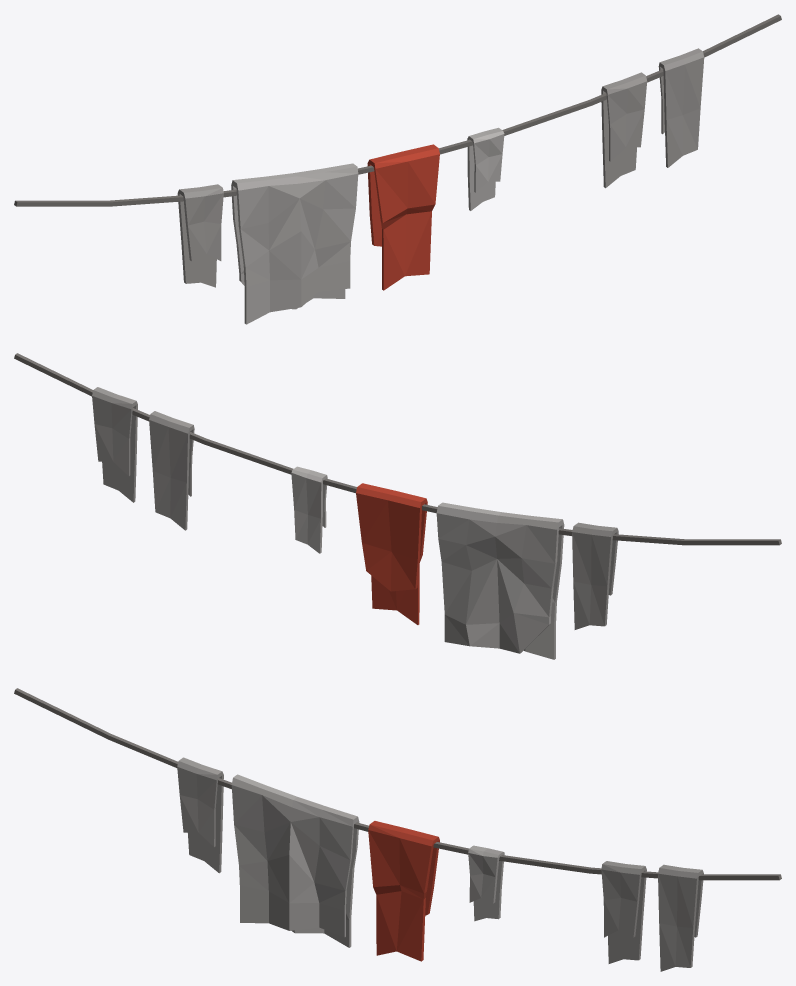
Rendered from SM_Prop_Washingline_01.fbx.
The picture shows the model from 3 angles, top to bottom: view 1: azimuth 30°, elevation 25°; view 2: azimuth 150°, elevation 25°; view 3: azimuth 330°, elevation 25°; orthographic projection.
Parts seen in each view (by area): view 1: SM_Prop_Washingline_01; view 2: SM_Prop_Washingline_01; view 3: SM_Prop_Washingline_01.
Part boxes in pixels (left/top/right/bottom): SM_Prop_Washingline_01: left=14, top=14, right=781, bottom=324; SM_Prop_Washingline_01: left=14, top=353, right=781, bottom=659; SM_Prop_Washingline_01: left=14, top=688, right=781, bottom=971.
Size of the model in its own units: 521 by 117 by 15.58.
